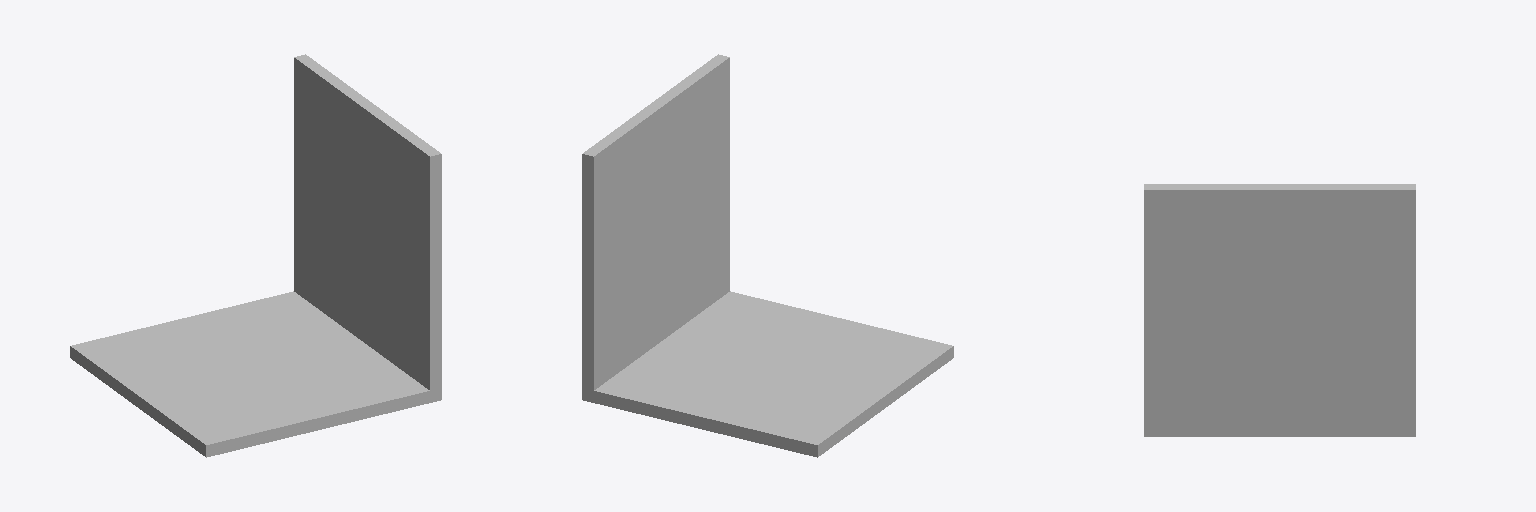
Rendered from Test Airport-3.obj.
3 views of the same model, side by side, from view 1: azimuth 30°, elevation 25°; view 2: azimuth 150°, elevation 25°; view 3: azimuth 270°, elevation 25° (orthographic).
Visible parts, largest first — view 1: Test Airport-3; view 2: Test Airport-3; view 3: Test Airport-3.
Boxes of the visible parts, x1=… form: Test Airport-3: x1=70, y1=54, x2=441, y2=457; Test Airport-3: x1=582, y1=54, x2=953, y2=457; Test Airport-3: x1=1144, y1=184, x2=1415, y2=436.
Bounding box in the file's own units: 20 × 20 × 20.